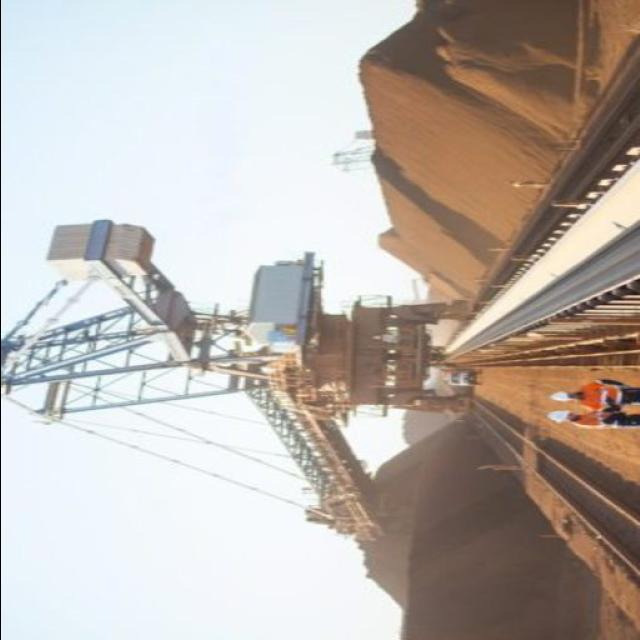conveyor: (432, 135, 640, 360)
